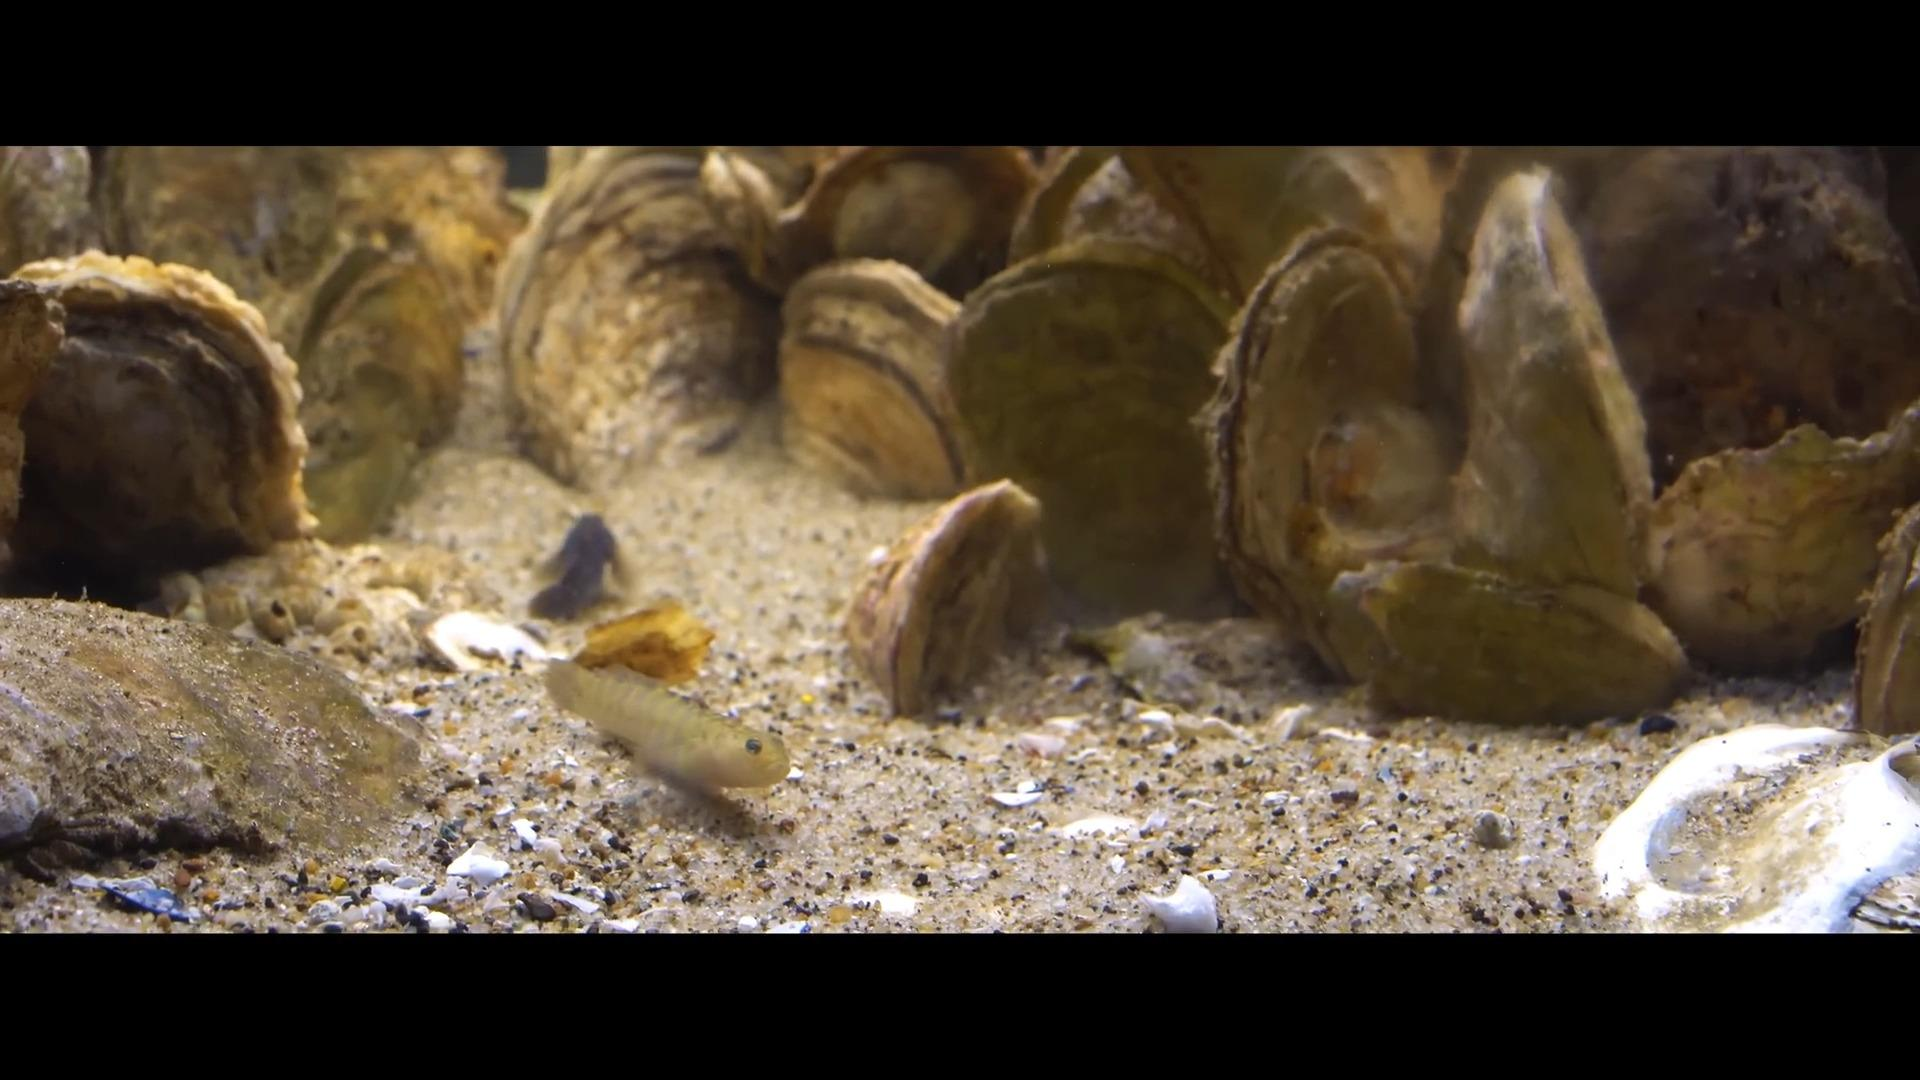Oyster: (1232, 166, 1685, 725), (3, 596, 442, 880), (1572, 150, 1917, 483), (953, 241, 1251, 621), (11, 251, 316, 597), (491, 146, 781, 489), (1638, 398, 1913, 675), (287, 231, 489, 542), (843, 479, 1048, 715), (781, 258, 967, 498), (752, 146, 1038, 301), (99, 144, 359, 297), (326, 149, 525, 331), (0, 273, 69, 564), (1857, 484, 1920, 740), (696, 148, 798, 291), (0, 146, 99, 272), (571, 600, 715, 684), (417, 609, 560, 675)
